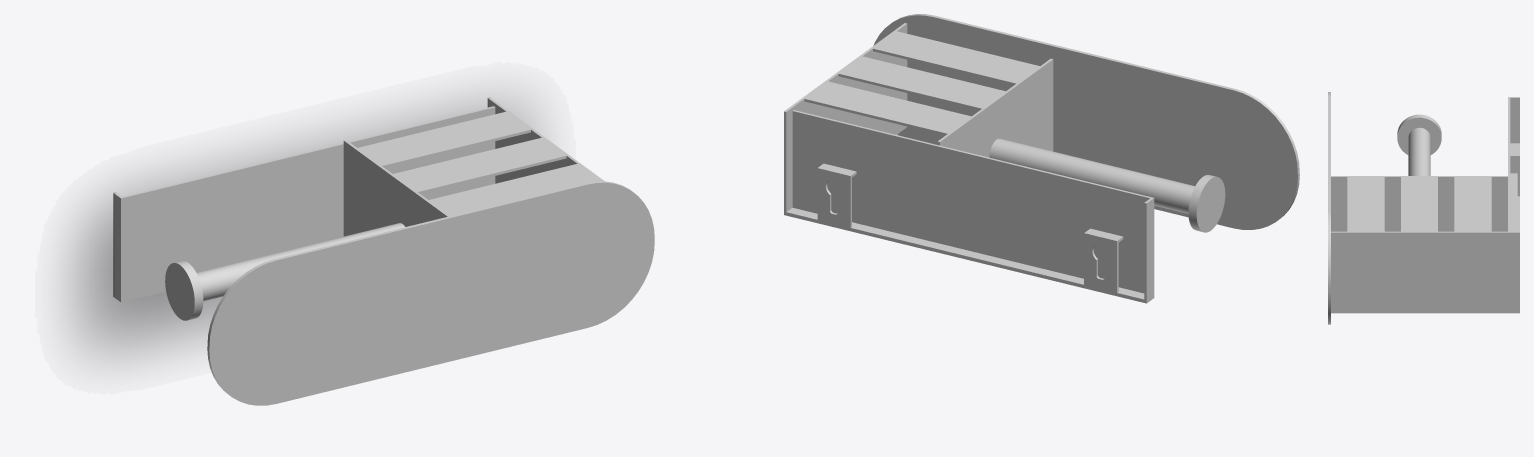
File: round-duetto.789f18f596.ar.glb
3 views of the same model, side by side, from view 1: azimuth 30°, elevation 25°; view 2: azimuth 150°, elevation 25°; view 3: azimuth 270°, elevation 25° (orthographic). The views are drawn at different scales.
Parts seen in each view (by area): view 1: NAUO1, object 2; view 2: NAUO1; view 3: NAUO1.
Part boxes in pixels (x1,y1,x2,y2): NAUO1: (113,97,654,405); object 2: (69,101,534,355); NAUO1: (784,14,1299,303); NAUO1: (1328,92,1519,324).
Bounding box in the file's own units: 0.34 × 0.16 × 0.129.
2 materials, 1 textured.
